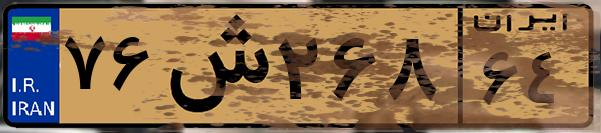2: (270, 28, 330, 110)
4: (525, 38, 570, 115)
6: (330, 28, 385, 110), (475, 38, 525, 113), (110, 28, 158, 98)
7: (57, 26, 110, 100)
8: (385, 28, 445, 110)
ش: (158, 12, 270, 120)
